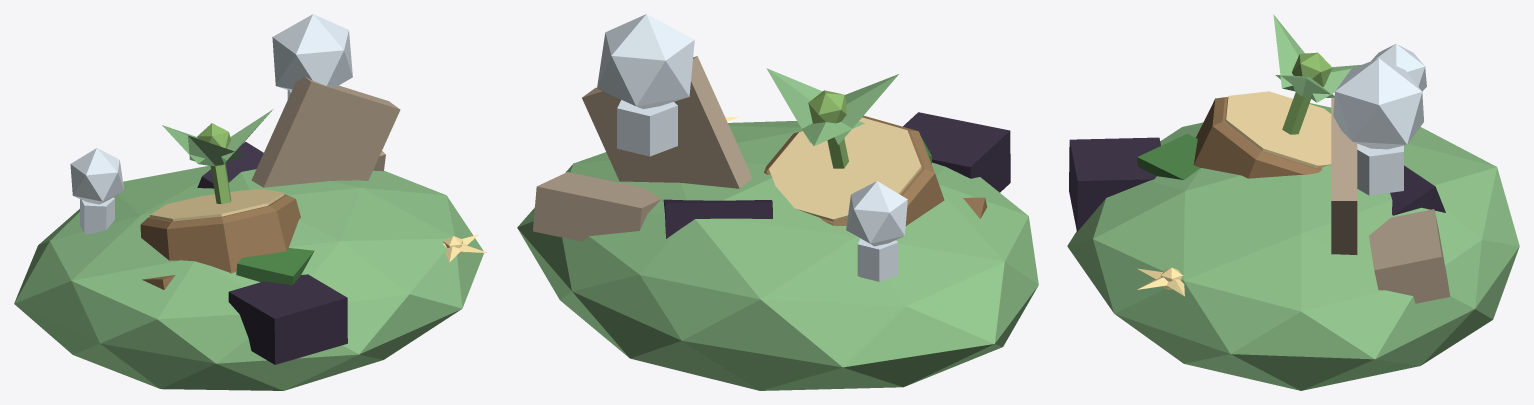
Rendered from forest-ruin.glb.
3 views of the same model, side by side, from view 1: azimuth 30°, elevation 25°; view 2: azimuth 150°, elevation 25°; view 3: azimuth 270°, elevation 25° (orthographic). The views are drawn at different scales.
Visible parts, largest first — view 1: forest-ruin; view 2: forest-ruin; view 3: forest-ruin.
Part boxes in pixels (x1,y1,x2,y2): forest-ruin: [14, 14, 487, 390]; forest-ruin: [517, 14, 1038, 390]; forest-ruin: [1067, 14, 1519, 390].
Size of the model in its own units: 1.24 by 0.7194 by 1.05.
